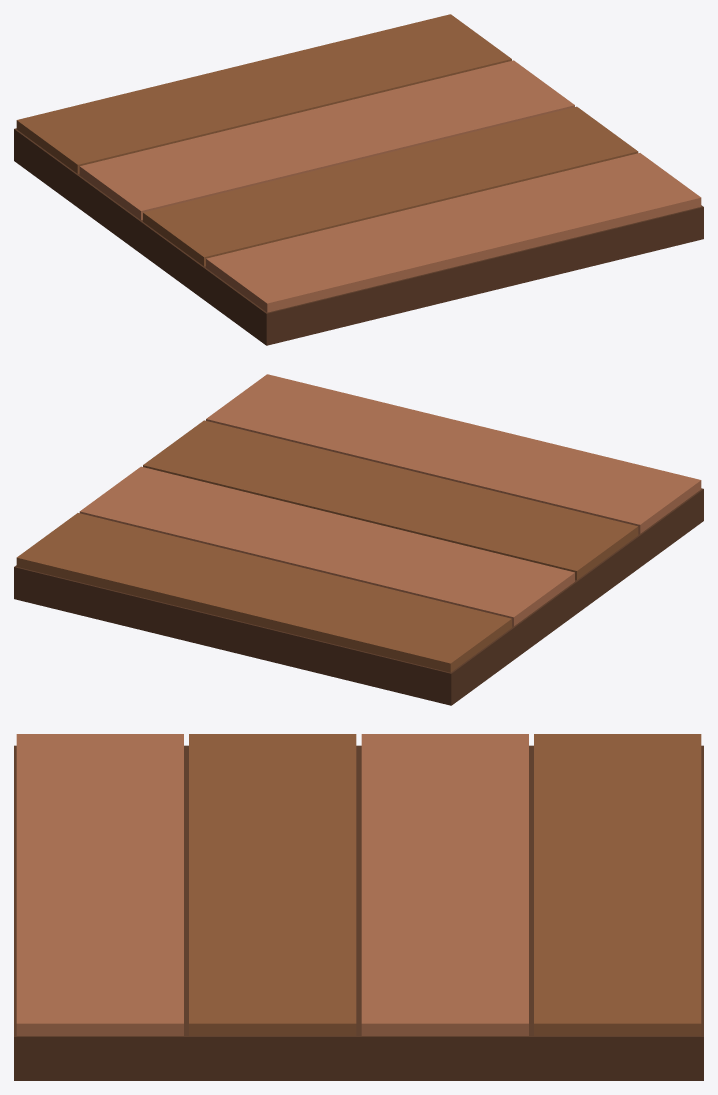
The model's file is floor_module.fbx.
3 views of the same model, one above another, from view 1: azimuth 30°, elevation 25°; view 2: azimuth 150°, elevation 25°; view 3: azimuth 270°, elevation 25° (orthographic). The views are drawn at different scales.
Visible parts, largest first — view 1: floor_module.190; view 2: floor_module.190; view 3: floor_module.190.
Boxes of the visible parts, <box> form: floor_module.190: <box>14,14,703,345</box>; floor_module.190: <box>14,374,703,705</box>; floor_module.190: <box>14,734,703,1080</box>.
Bounding box in the file's own units: 200 × 18 × 200.
